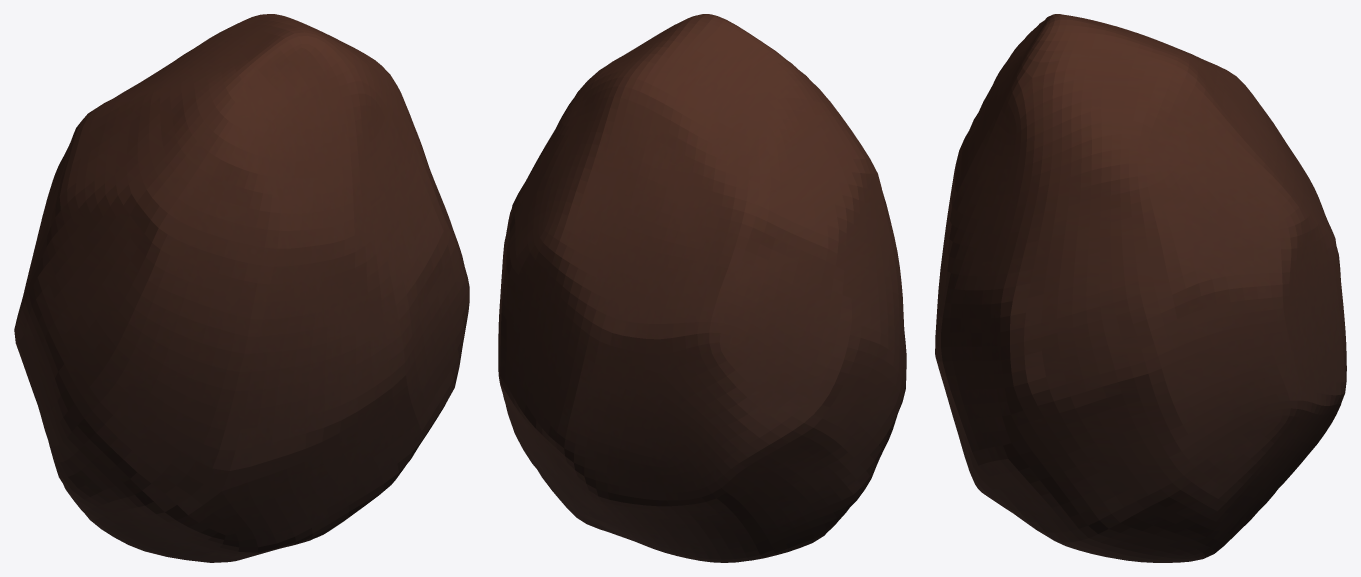
The model's file is Rock4_Textured.fbx.
3 renders of one model, left to right at view 1: azimuth 30°, elevation 25°; view 2: azimuth 150°, elevation 25°; view 3: azimuth 270°, elevation 25°, orthographic. The views are drawn at different scales.
Parts seen in each view (by area): view 1: GameJam_Rock1_ModelZbrush:Group30623; view 2: GameJam_Rock1_ModelZbrush:Group30623; view 3: GameJam_Rock1_ModelZbrush:Group30623.
Part boxes in pixels (box(x1,y1,x2,y2)): GameJam_Rock1_ModelZbrush:Group30623: box(14, 14, 469, 562); GameJam_Rock1_ModelZbrush:Group30623: box(498, 14, 906, 562); GameJam_Rock1_ModelZbrush:Group30623: box(935, 14, 1346, 562).
Size of the model in its own units: 1.2 by 1.51 by 1.07.
1 material, 1 textured.
